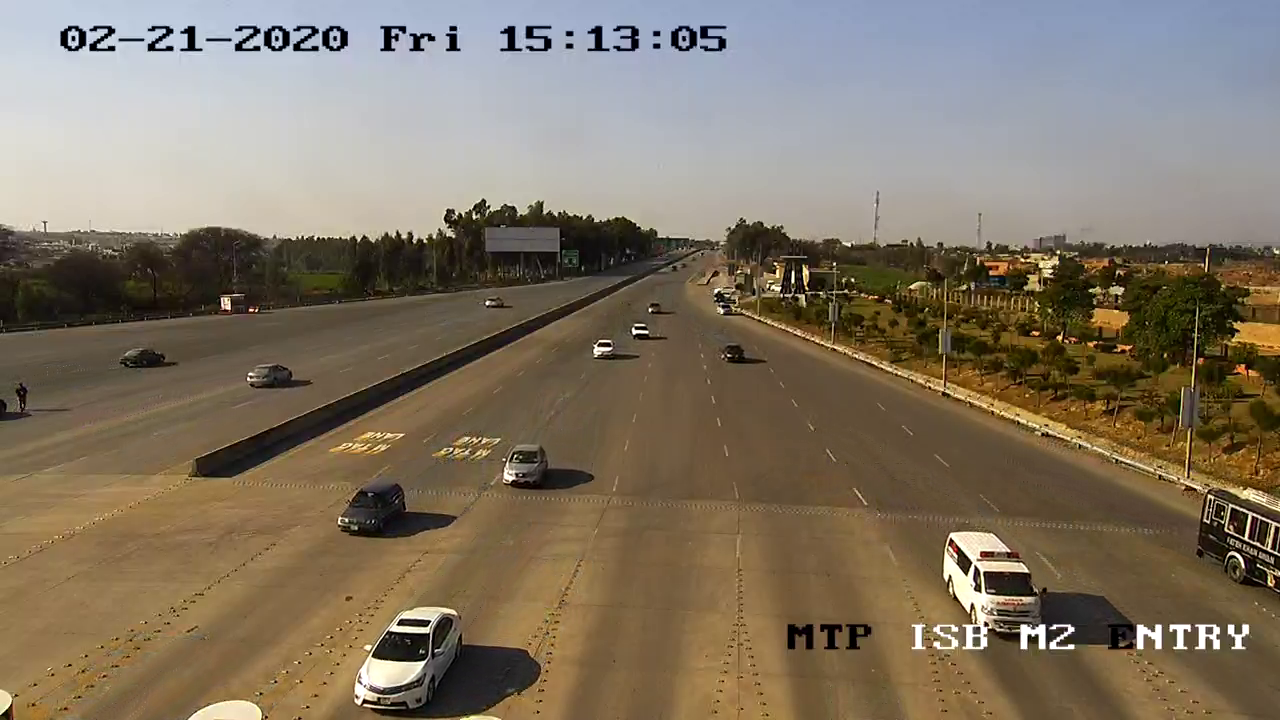f1: (346, 595, 480, 717), (330, 475, 414, 542), (497, 439, 557, 494)
f2: (938, 524, 1050, 641)
